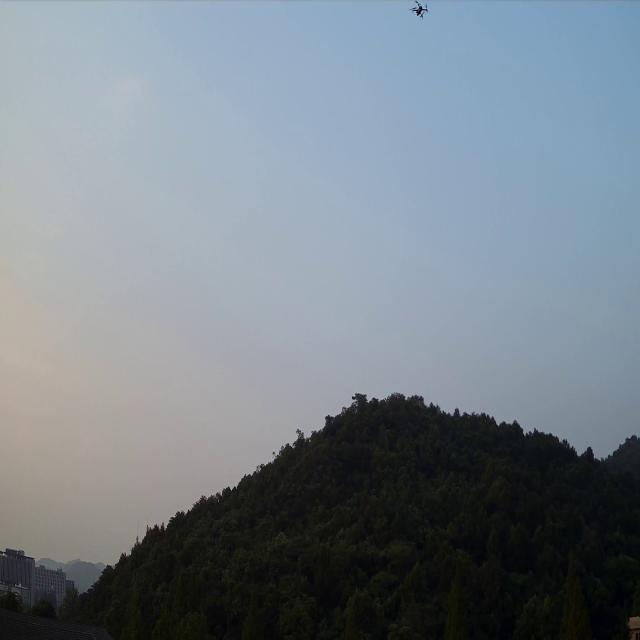UAV: (408, 0, 428, 20)
